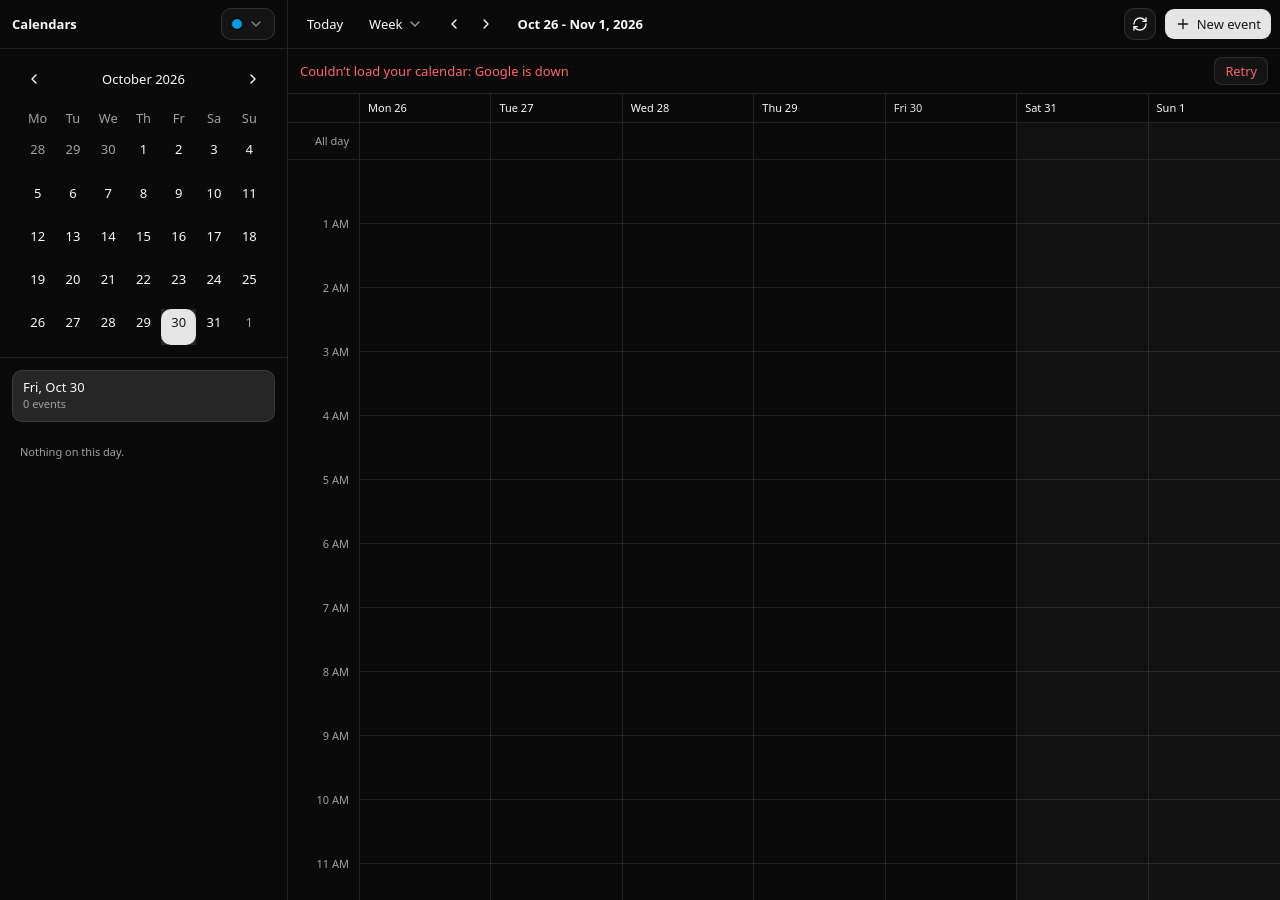
Test: the calendar view › a failed load says so inline, and Retry asks again
The image size is (1280, 900).
Expected: the message shows "Google is down", x1=475 y1=62 x2=569 y2=80
What coordinates should you click on to do the following:
click the button "Retry"
I would click on:
 (1241, 71)
Its box is x1=1214 y1=57 x2=1268 y2=85.
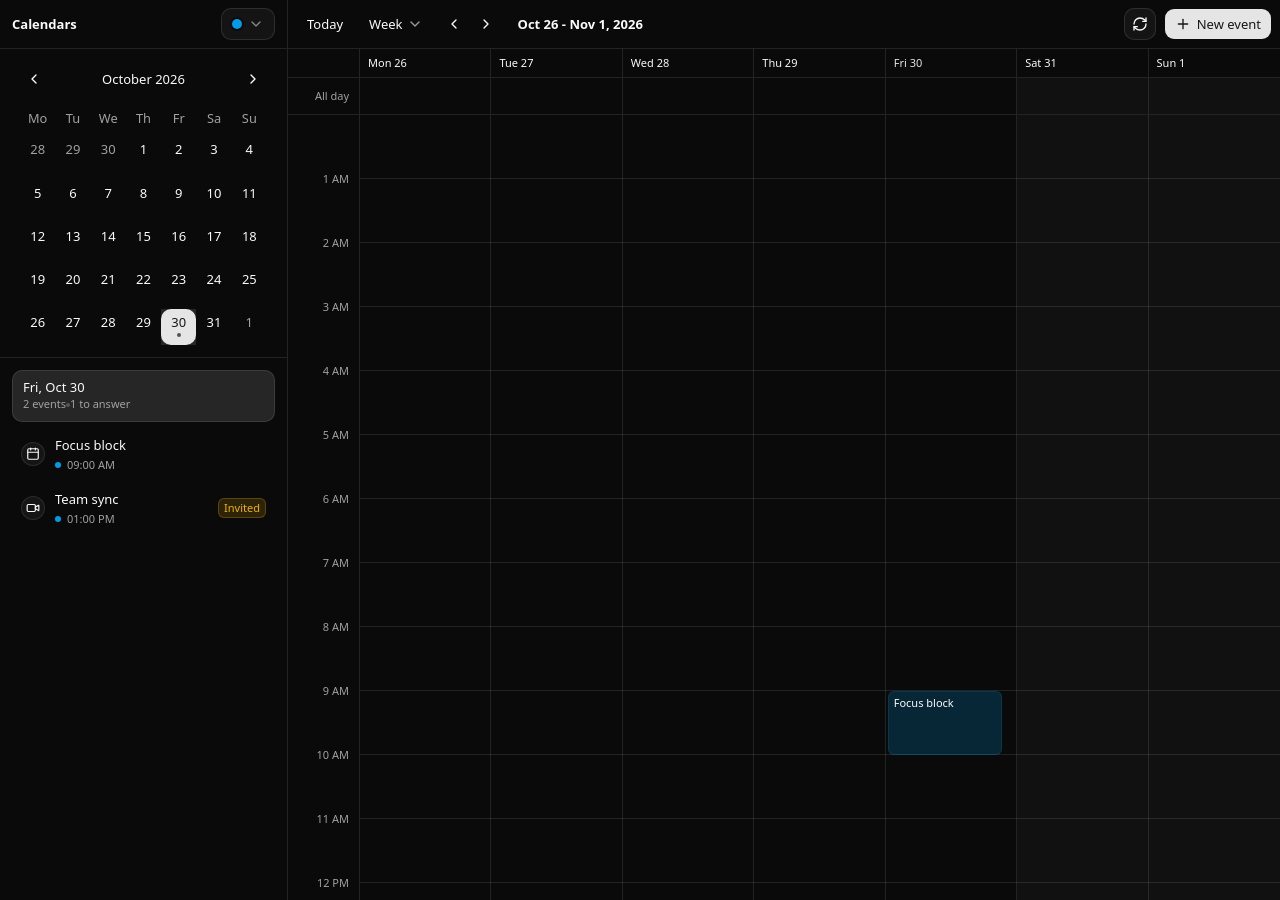
Now the text "Focus block" below "events" is shown, box x1=55 y1=436 x2=126 y2=454
